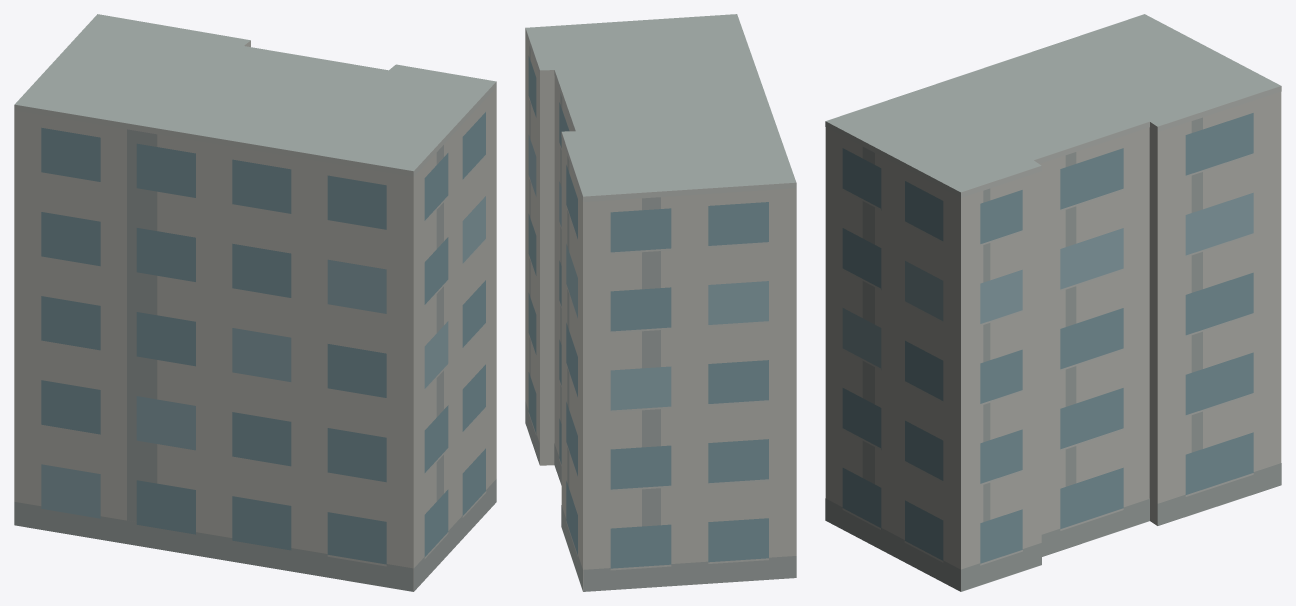
The model's file is survey-upis-32680522.glb.
The picture shows the model from 3 angles, left to right: view 1: azimuth 30°, elevation 25°; view 2: azimuth 150°, elevation 25°; view 3: azimuth 270°, elevation 25°; orthographic projection. The views are drawn at different scales.
Visible parts, largest first — view 1: survey-upis-32680522.tmp; view 2: survey-upis-32680522.tmp; view 3: survey-upis-32680522.tmp.
Part boxes in pixels (box(x1,y1,x2,y2)): survey-upis-32680522.tmp: box(14, 14, 496, 591); survey-upis-32680522.tmp: box(525, 14, 796, 591); survey-upis-32680522.tmp: box(825, 14, 1281, 591).
Bounding box in the file's own units: 16.44 × 17.15 × 17.75.
